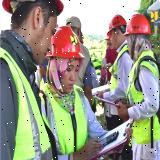Helmet: (46, 25, 88, 60), (124, 11, 152, 37), (107, 13, 126, 39)
Vest: (0, 47, 52, 160), (40, 73, 89, 158), (127, 52, 160, 155), (108, 44, 134, 102)
